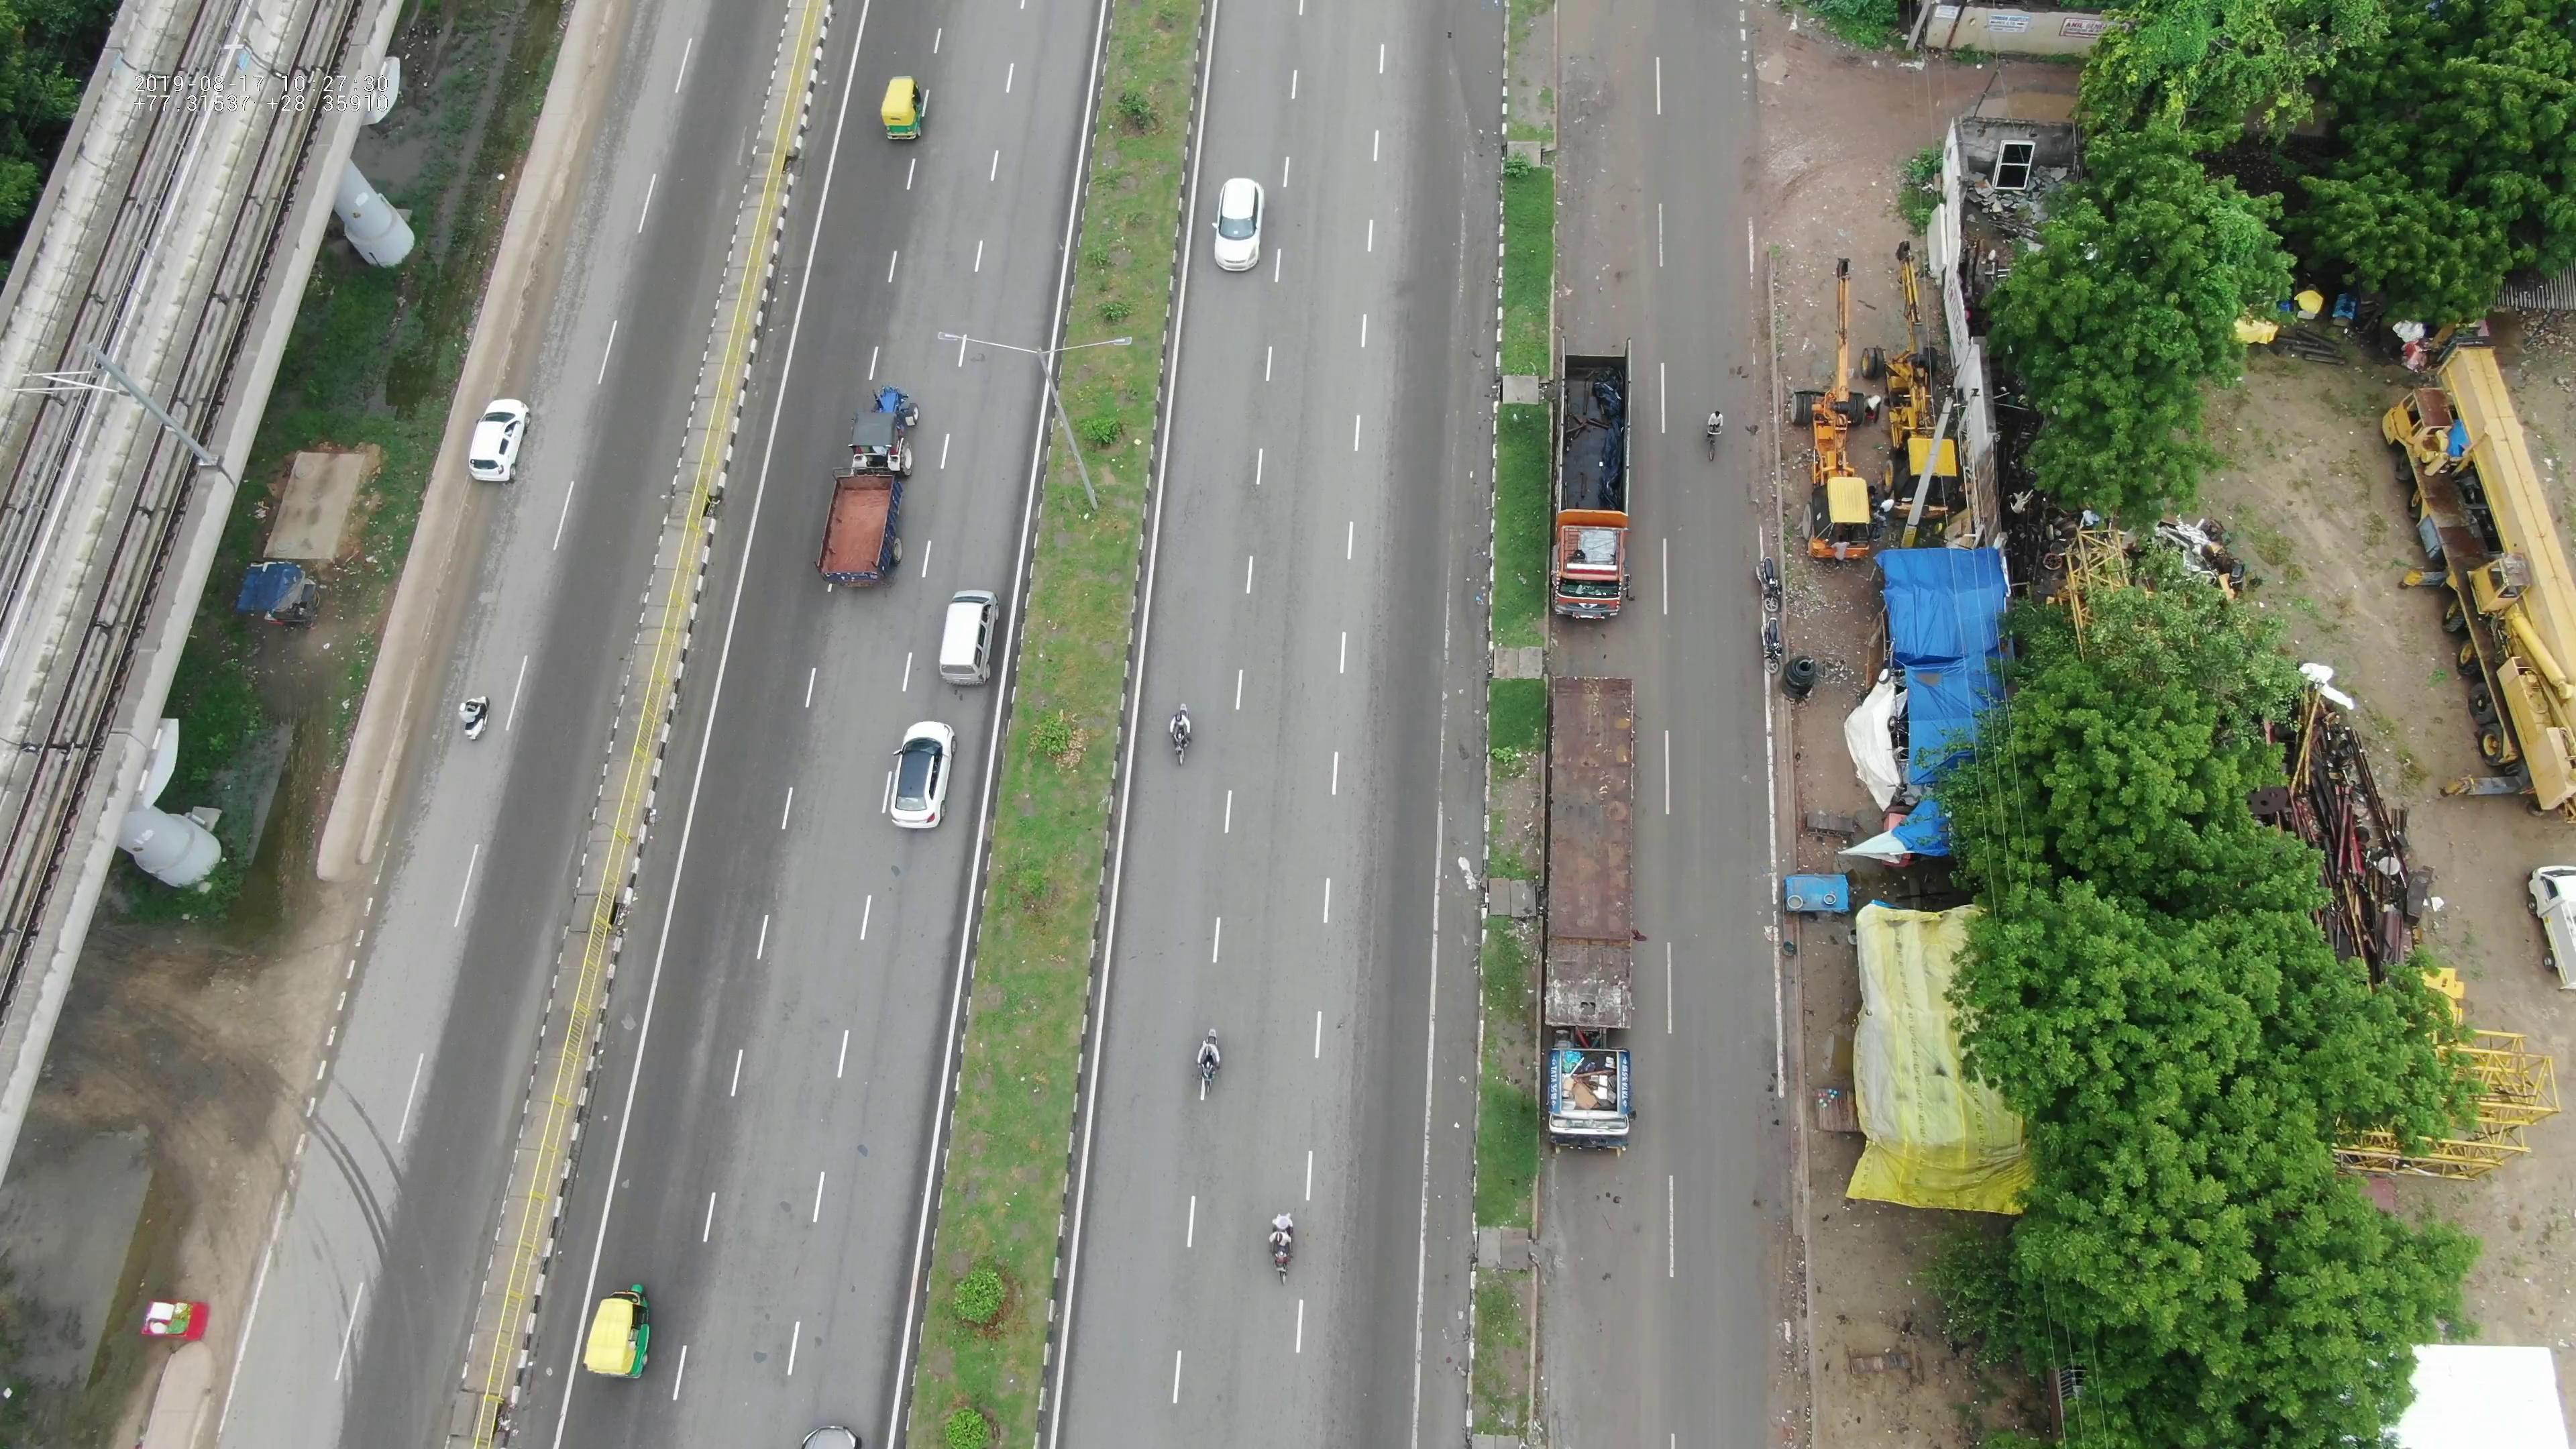Muddy_road: (1568, 16, 1640, 313)
